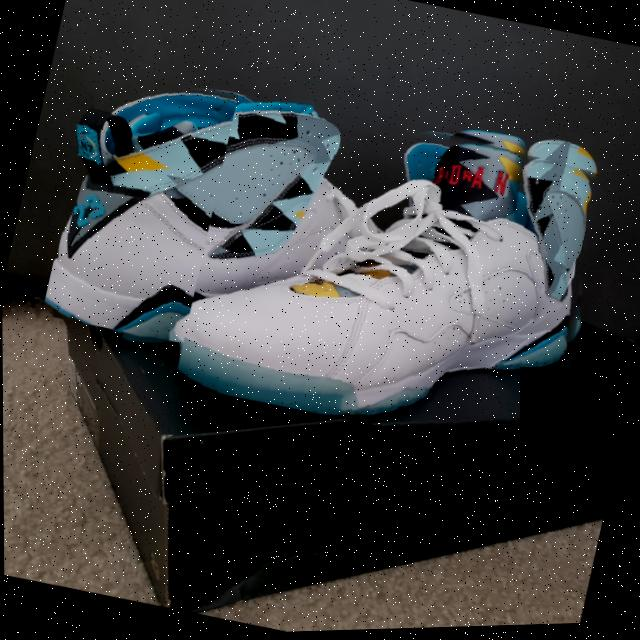shoe: (171, 72, 623, 473), (39, 52, 394, 383)
